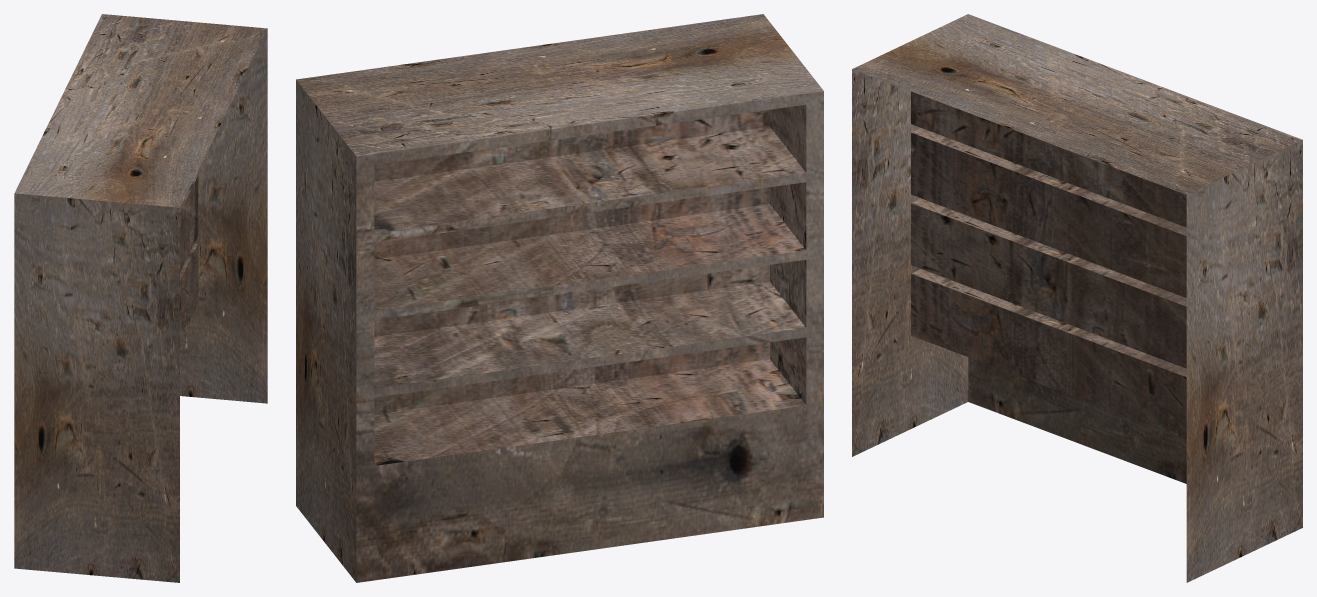
Rendered from Shelf.fbx.
3 views of the same model, side by side, from view 1: azimuth 30°, elevation 25°; view 2: azimuth 150°, elevation 25°; view 3: azimuth 270°, elevation 25° (orthographic). The views are drawn at different scales.
Parts seen in each view (by area): view 1: Shelf; view 2: Shelf; view 3: Shelf.
Boxes of the visible parts, x1,y1,x2,y2 form: Shelf: (14, 14, 267, 582); Shelf: (296, 14, 823, 582); Shelf: (852, 14, 1302, 582).
Size of the model in its own units: 75.9 by 75.83 by 79.89.
1 material, 1 textured.
